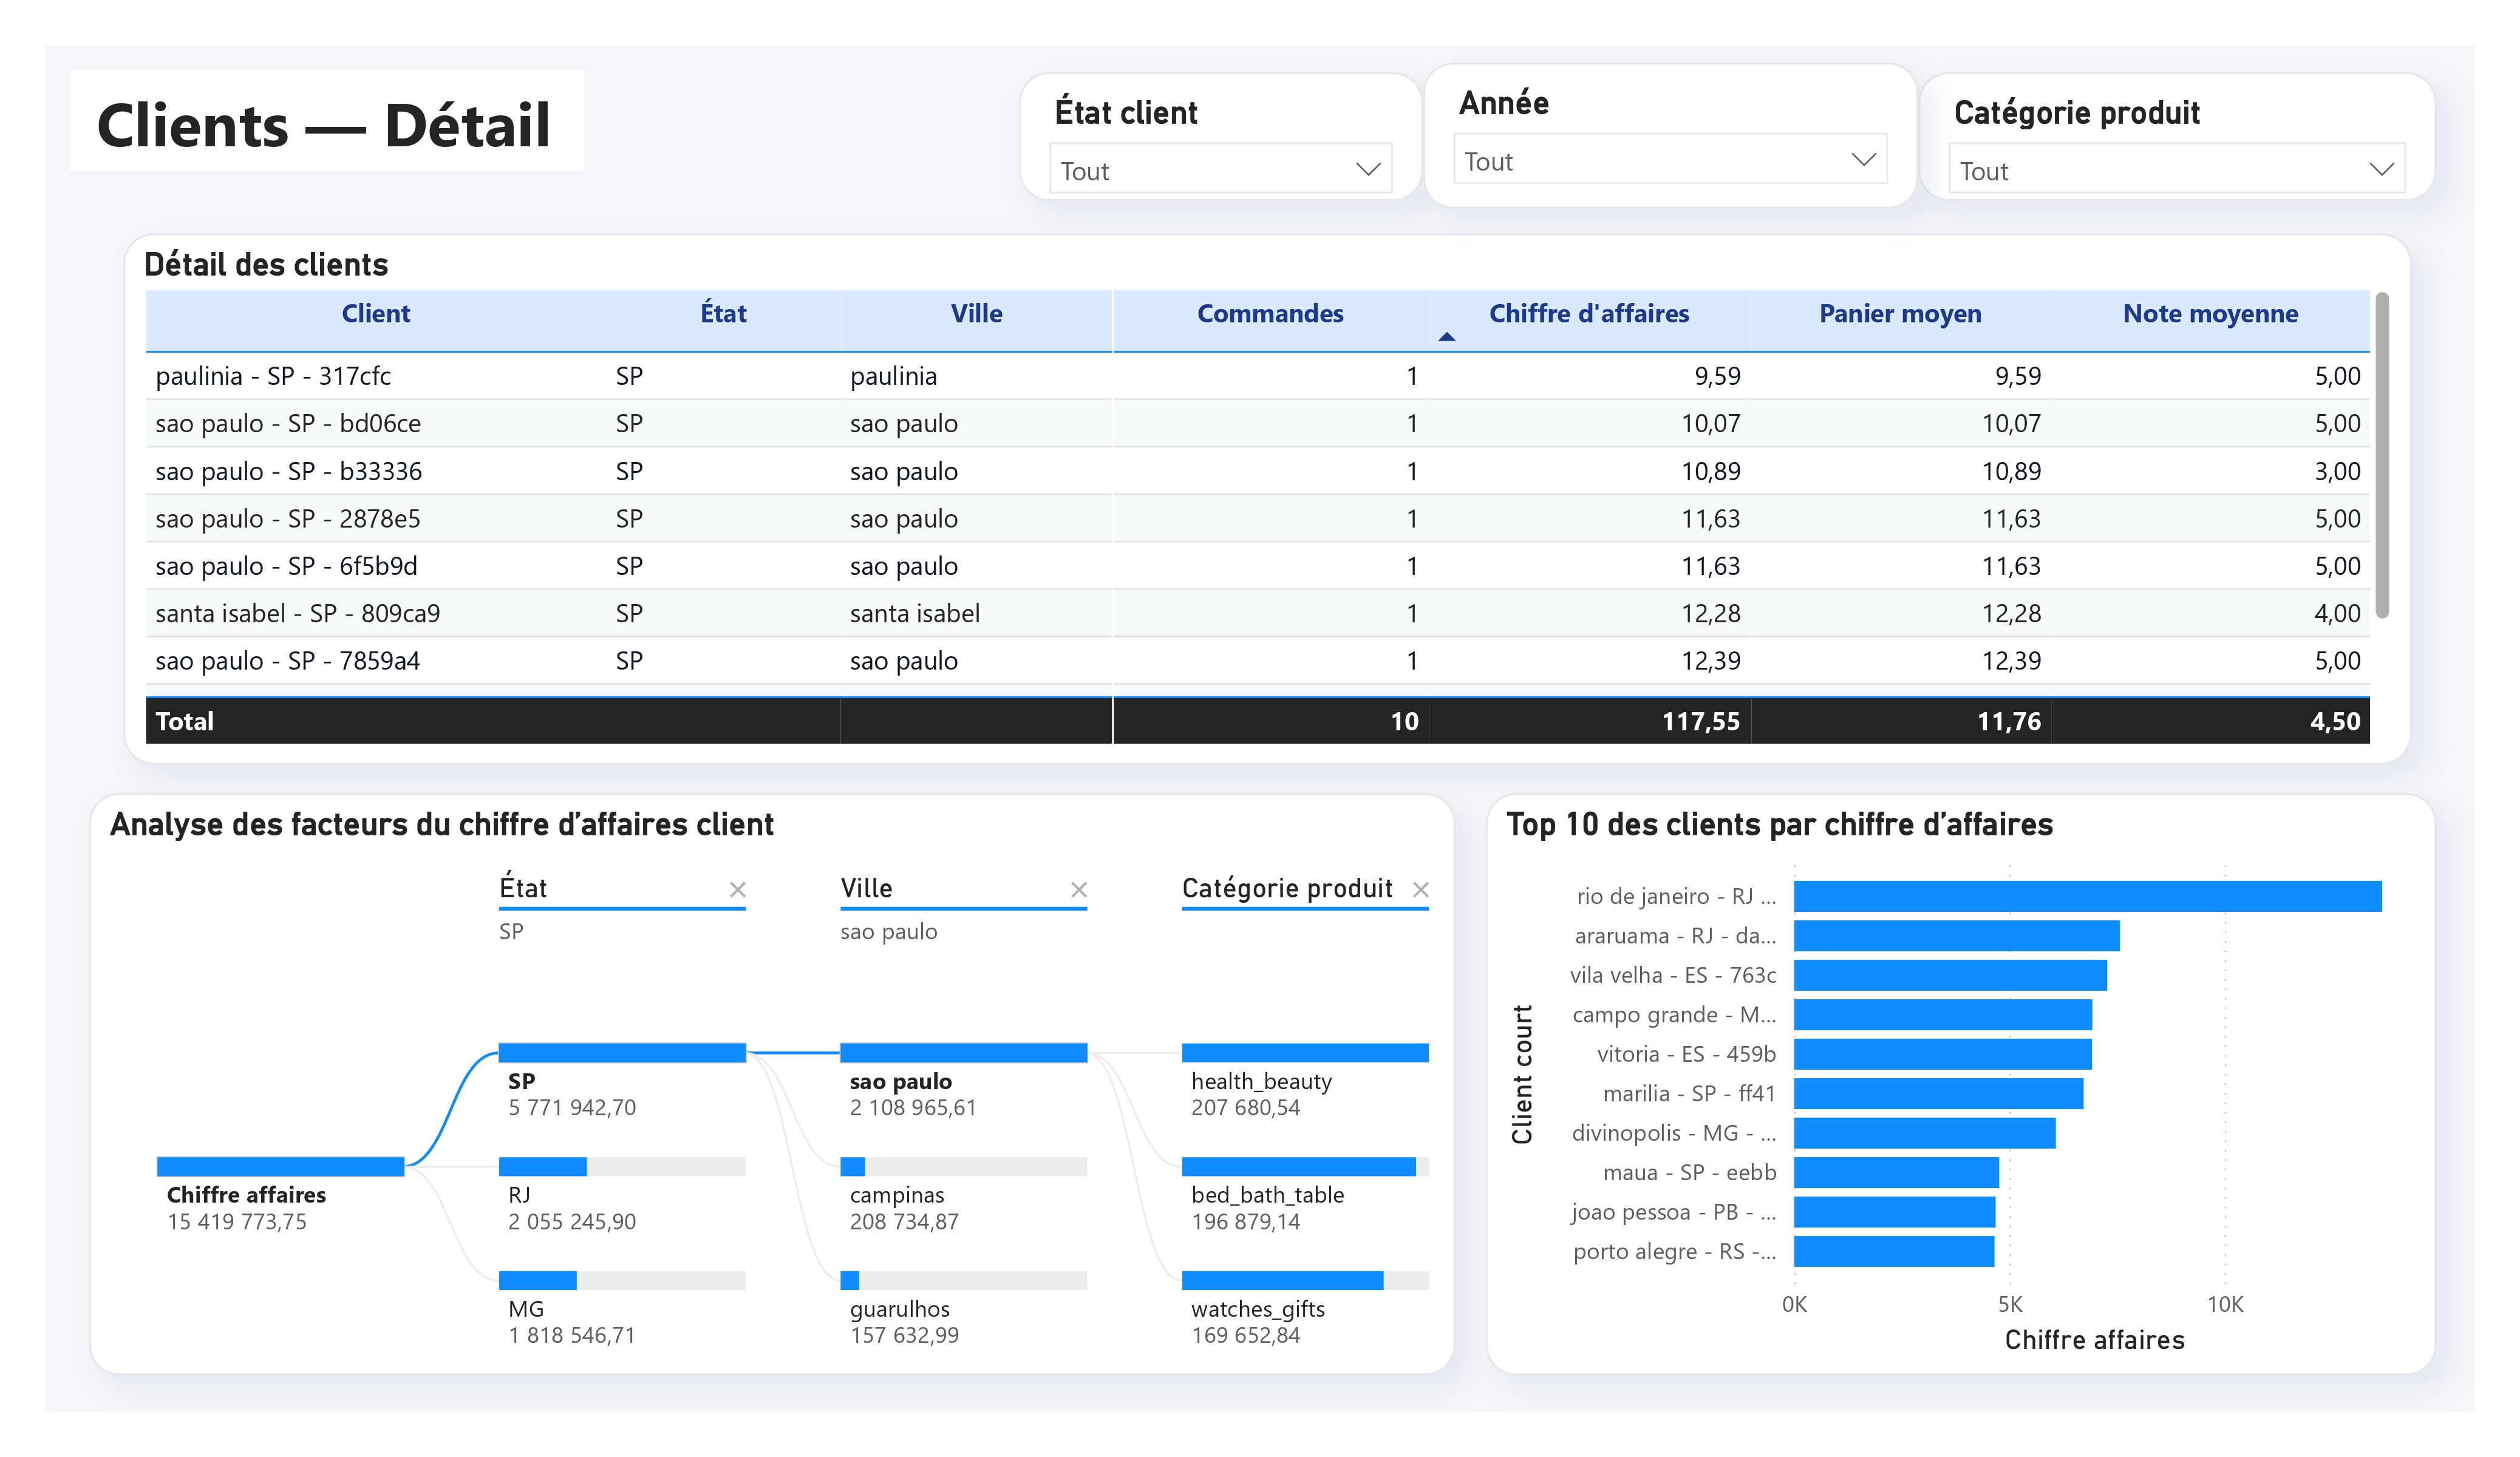

This screenshot's page, from the dashboard's own definition file:
{"tool":"powerbi","page":{"name":"Clients - Détail","canvas":[1280,720],"ordinal":4},"visuals":[{"type":"decompositionTreeVisual","title":"Analyse des facteurs du chiffre d’affaires client","fields":{"Analyze":["public fact_sales.Chiffre affaires"],"ExplainBy":["public dim_customer.customer_state","public dim_customer.customer_city","public dim_product.product_category","public fact_sales.main_payment_type"]},"box":[22.9,394.3,720,307.1],"z":0},{"type":"clusteredBarChart","title":"Top 10 des clients par chiffre d’affaires","fields":{"Y":["public fact_sales.Chiffre affaires"],"Category":["public dim_customer.Client court"]},"box":[758.6,394.3,501.4,307.1],"z":1000},{"type":"tableEx","title":"Détail des clients","fields":{"Values":["public dim_customer.Client affiche","public dim_customer.customer_state","public dim_customer.customer_city","public fact_sales.Nombre commandes","public fact_sales.Chiffre affaires","public fact_sales.Panier moyen","public fact_sales.Note moyenne"]},"box":[41.4,98.6,1205.7,280],"z":2000},{"type":"slicer","fields":{"Values":["public dim_product.product_category"]},"box":[987.1,13.6,272.9,68.6],"z":3000},{"type":"slicer","fields":{"Values":["public dim_customer.customer_state"]},"box":[512.9,13.6,212.9,68.6],"z":4000},{"type":"slicer","fields":{"Values":["public dim_date.year"]},"box":[725.7,9.3,261.4,77.1],"z":5000},{"type":"textbox","box":[12.9,12.9,271.4,52.9],"z":6000}]}

Visuals, with their boxes on the page's 1280x720 design canvas (x1, y1, x2, y2). These are canvas units, not pixel positions in the 2520x1457 screenshot, which may show the page scaled, cropped or inside an application window:
"Analyse des facteurs du chiffre d’affaires client" decompositionTreeVisual: <bbox>23, 394, 743, 701</bbox>
"Top 10 des clients par chiffre d’affaires" clusteredBarChart: <bbox>759, 394, 1260, 701</bbox>
"Détail des clients" tableEx: <bbox>41, 99, 1247, 379</bbox>
slicer - public dim_product.product_category: <bbox>987, 14, 1260, 82</bbox>
slicer - public dim_customer.customer_state: <bbox>513, 14, 726, 82</bbox>
slicer - public dim_date.year: <bbox>726, 9, 987, 86</bbox>
textbox: <bbox>13, 13, 284, 66</bbox>
